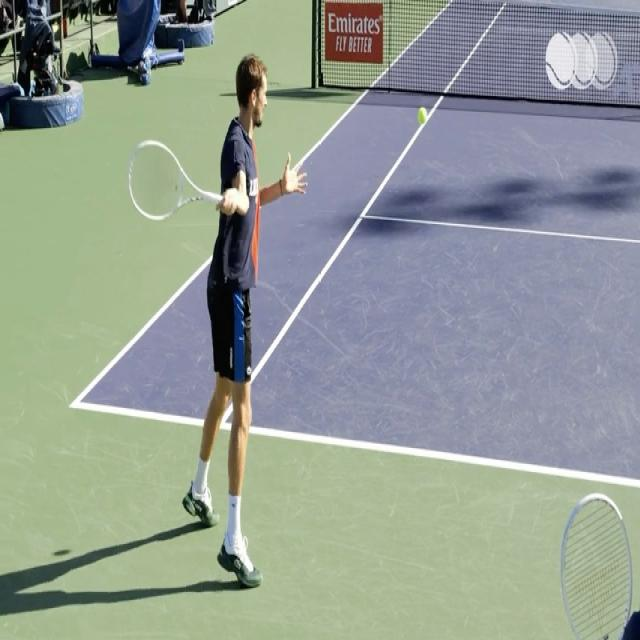forehand-stroke: (128, 53, 306, 586)
